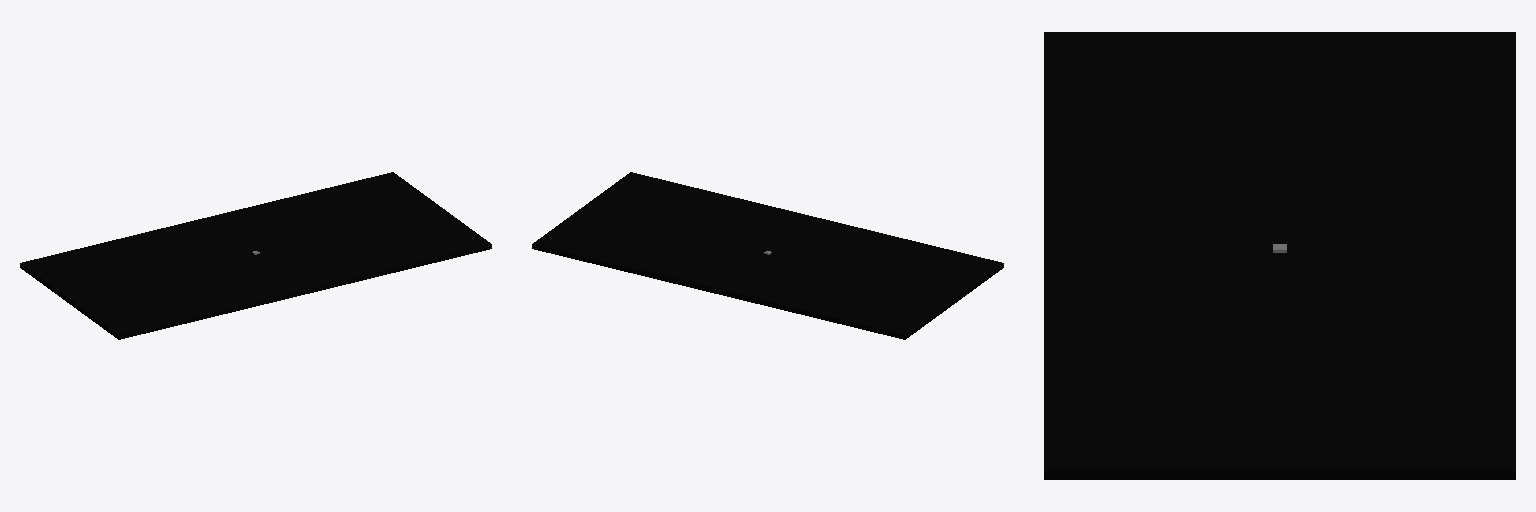
robot.urdf — genimind:
<?xml version="1.0"?>
<robot name="genimind">
    <!-- link_1:机器人身体部分 -->
    <link name="base_link">
        <!-- 外观描述 -->
        <visual>
            <!-- 1.沿着机器人几何中心的偏移和旋转分量 -->
            <origin xyz="0.0 0.0 0.0" rpy="0.0 0.0 0.0"/>
            <!-- 2.几何形状 -->
            <geometry>
                <!-- 单位是米 -->
                <box size="0.3 0.137 0.004"/>
            </geometry>
            <!-- 3.材料 -->
            <material name="carbon_fiber">
                <color rgba="0.05 0.05 0.05 1.0"/>
            </material>
        </visual>
    </link>
    <!-- link_2:惯性测量单元 -->
    <link name="imu_link">
        <visual>
            <origin xyz="0.0 0.0 0.0" rpy="0.0 0.0 0.0"/>
            <geometry>
                <box size="0.004 0.004 0.002"/>
            </geometry>
            <material name="black">
                <color rgba="0.5 0.5 0.5 0.5"/>
            </material>
        </visual>
    </link>
    <!-- joint_1 -->
    <joint name="joint_1" type="fixed">
        <origin xyz="0.0 0.0 0.002" rpy="0.0 0.0 0.0"/>
        <parent link="base_link"/>
        <child link="imu_link"/>
    </joint>
</robot>

--- What the picture shows (computed from the rendered views, not written in the file) ---
3 views of the same robot in one strip: view 1: azimuth 30°, elevation 25°; view 2: azimuth 150°, elevation 25°; view 3: azimuth 270°, elevation 25° (orthographic).
Model genimind with 2 links and 1 joints (1 fixed), rooted at base_link, posed all joints at 0.
Visible links, largest first — view 1: base_link; view 2: base_link; view 3: base_link.
Boxes of the visible links, x1,y1,x2,y2 form: base_link: [20, 172, 491, 339]; base_link: [532, 172, 1003, 339]; base_link: [1044, 32, 1515, 479].
Size in the robot's own frame: 0.3 by 0.137 by 0.005 metres.
Geometry: primitives only (box / cylinder / sphere), no mesh files.
